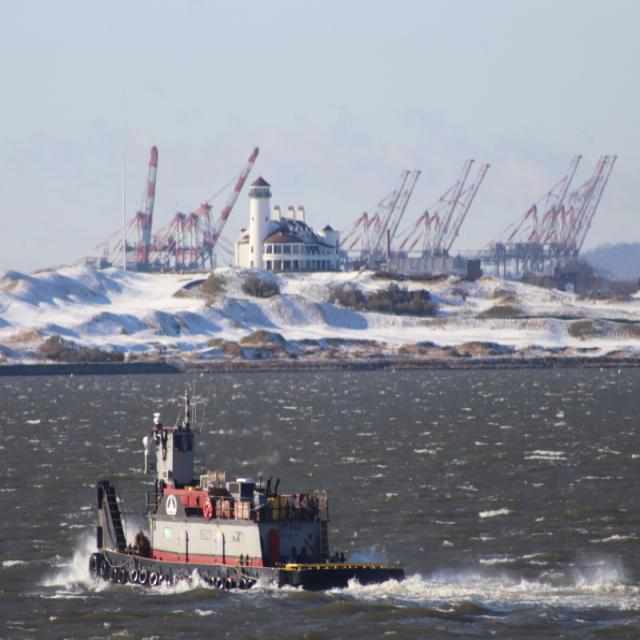tugboat: (85, 383, 414, 611)
